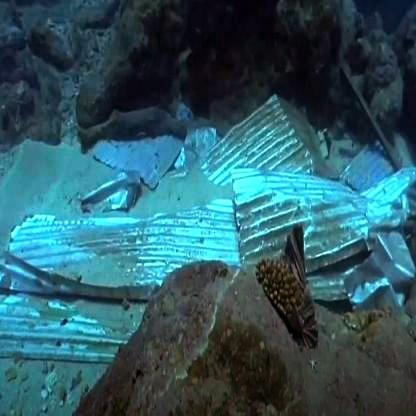metal: (247, 134, 416, 328), (14, 212, 236, 300), (1, 242, 134, 361), (215, 98, 329, 194)
